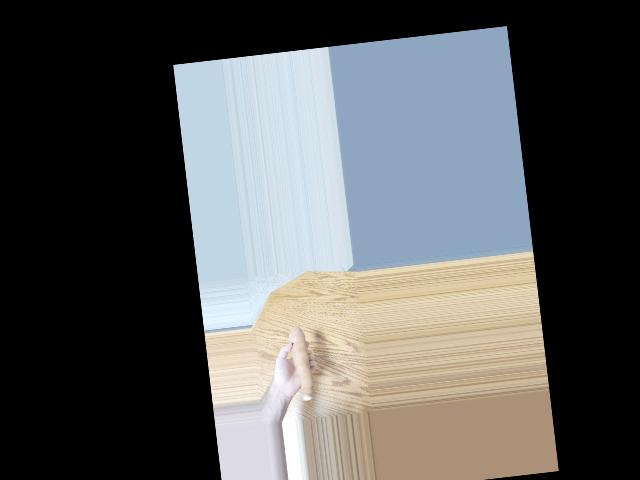sweet_potato: (291, 324, 318, 395)
